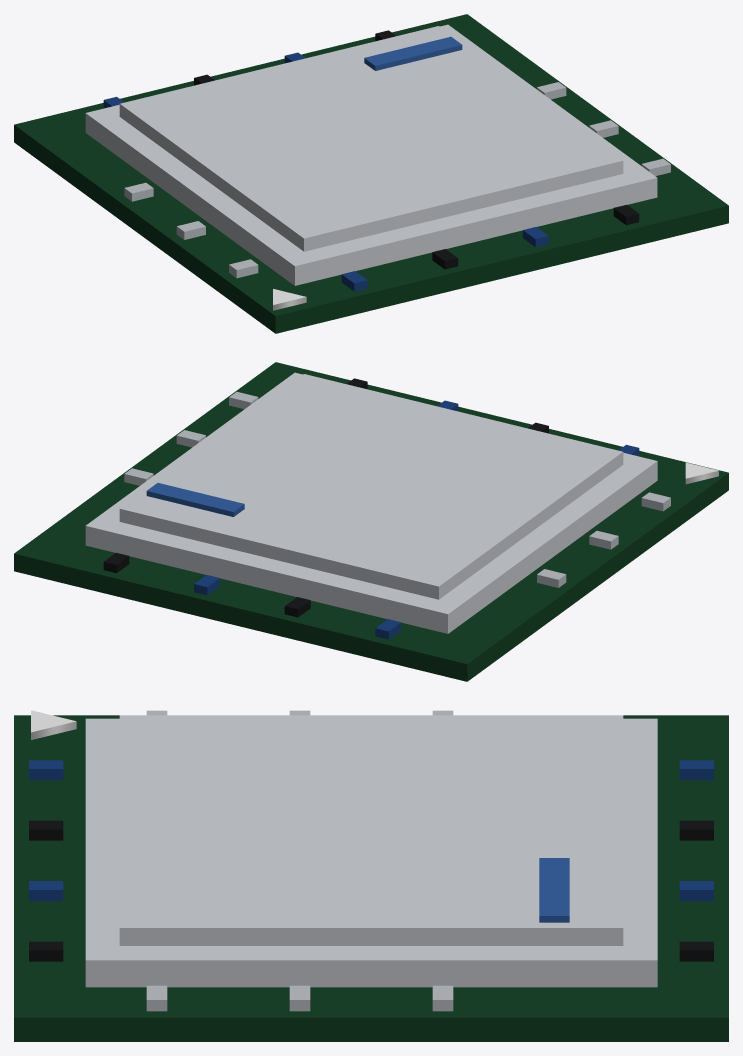
Rendered from hw_cpu_c2q_4c.glb.
The picture shows the model from 3 angles, top to bottom: view 1: azimuth 30°, elevation 25°; view 2: azimuth 150°, elevation 25°; view 3: azimuth 270°, elevation 25°; orthographic projection. The views are drawn at different scales.
Visible parts, largest first — view 1: Body; view 2: Body; view 3: Body.
Part boxes in pixels (x1,y1,x2,y2): Body: [14, 14, 728, 333]; Body: [14, 362, 728, 681]; Body: [14, 710, 728, 1041].
Bounding box in the file's own units: 0.0375 × 0.00467 × 0.0375.
